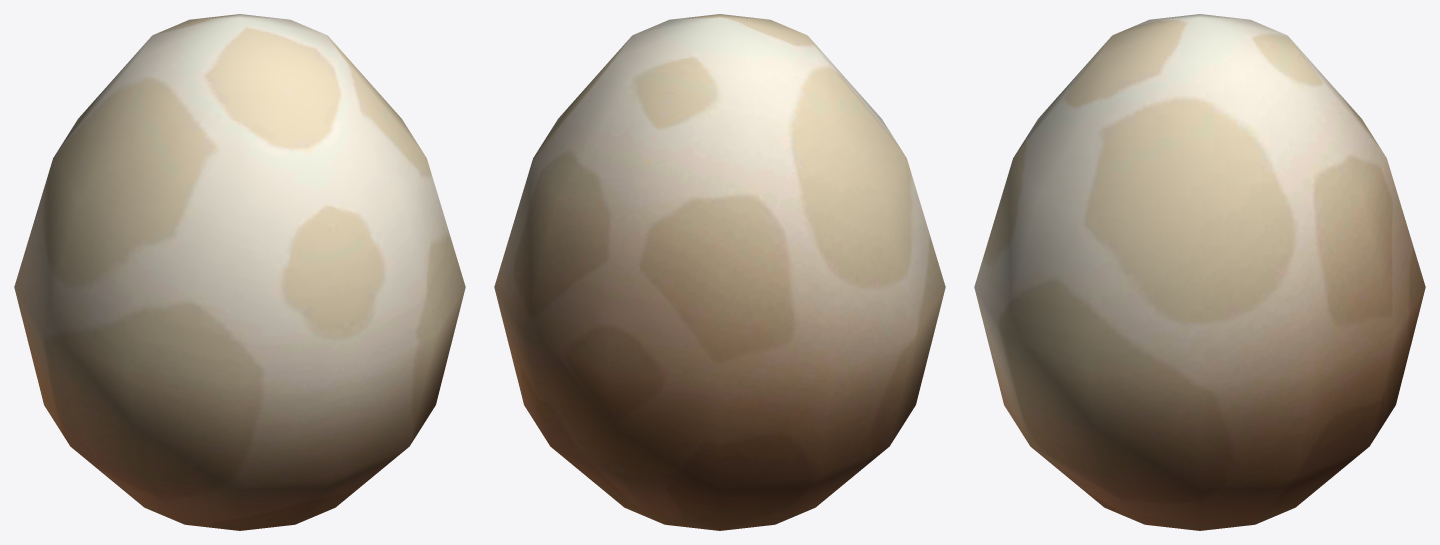
File: chicken_quality_up_anim.fbx
3 views of the same model, side by side, from view 1: azimuth 30°, elevation 25°; view 2: azimuth 150°, elevation 25°; view 3: azimuth 270°, elevation 25° (orthographic).
Parts seen in each view (by area): view 1: 蛋; view 2: 蛋; view 3: 蛋.
Part boxes in pixels (x1,y1,x2,y2): 蛋: [14, 14, 465, 530]; 蛋: [494, 14, 945, 530]; 蛋: [974, 14, 1425, 530].
Size of the model in its own units: 402 by 485 by 402.
